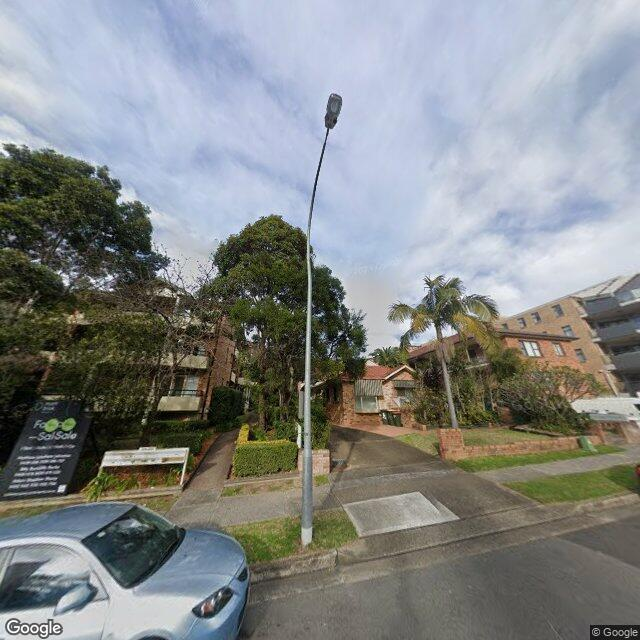steel-pole: (301, 225, 313, 544)
streetlight: (308, 92, 343, 226)
